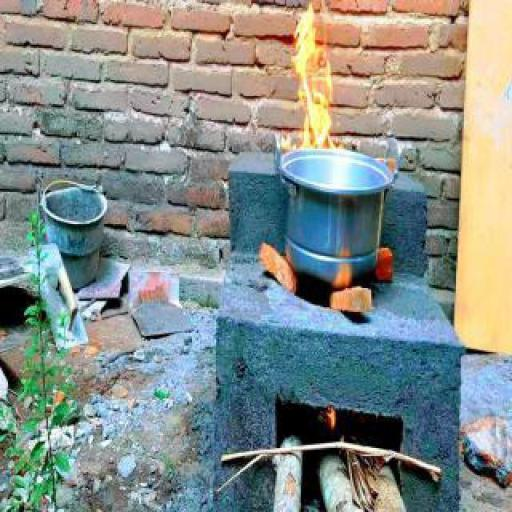smoke: (278, 6, 346, 168), (332, 236, 360, 295), (326, 396, 340, 432)
